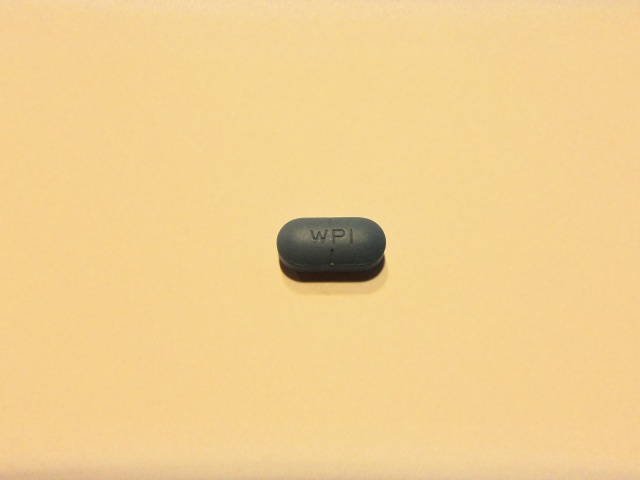I: (348, 227, 356, 247)
P: (328, 229, 347, 247)
W: (306, 227, 329, 246)
